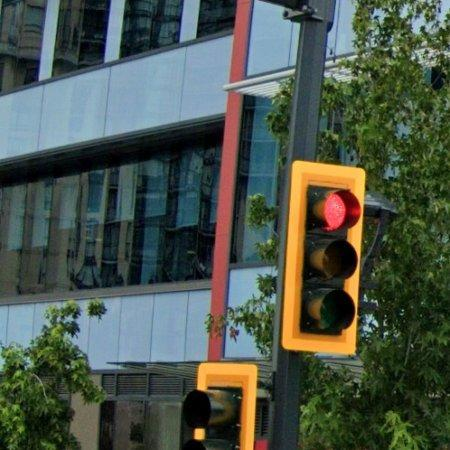traffic lights: (283, 158, 367, 356), (182, 358, 259, 450)
